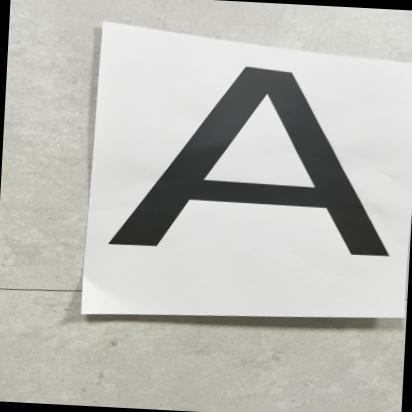seat: (110, 53, 397, 285)
